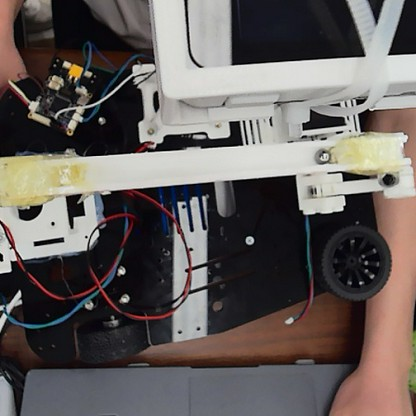ironball: (312, 147, 332, 165)
